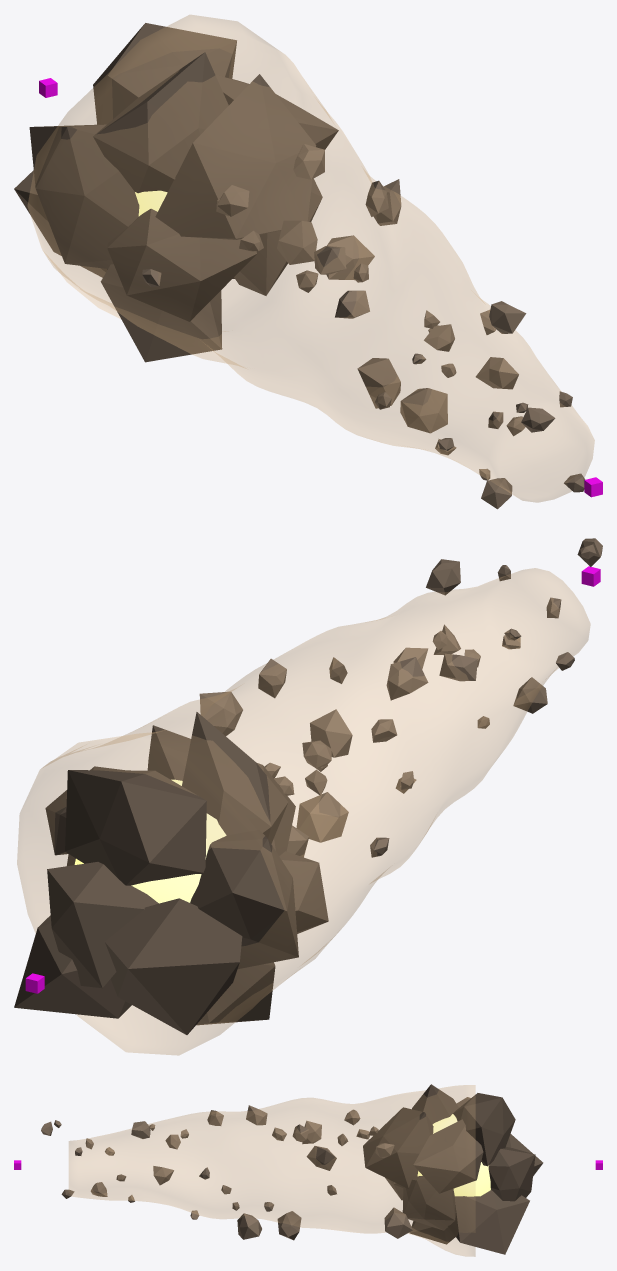
The model's file is EarthBlast.fbx.
3 views of the same model, one above another, from view 1: azimuth 30°, elevation 25°; view 2: azimuth 150°, elevation 25°; view 3: azimuth 270°, elevation 25° (orthographic). The views are drawn at different scales.
Visible parts, largest first — view 1: Dust, Rocks, Pebbles; view 2: Dust, Rocks, Pebbles, Core.006; view 3: Dust, Rocks, Pebbles, Core.006.
Part boxes in pixels (x1,y1,x2,y2): Dust: (27, 15, 594, 502); Rocks: (14, 23, 338, 362); Pebbles: (142, 144, 585, 509); Dust: (17, 568, 590, 1055); Rocks: (14, 712, 328, 1034); Pebbles: (199, 538, 602, 857); Core.006: (74, 779, 226, 903); Dust: (69, 1085, 475, 1256); Rocks: (363, 1084, 543, 1254); Pebbles: (41, 1105, 412, 1240); Core.006: (417, 1114, 490, 1196).
Size of the model in its own units: 2.37 by 2.52 by 8.1.
